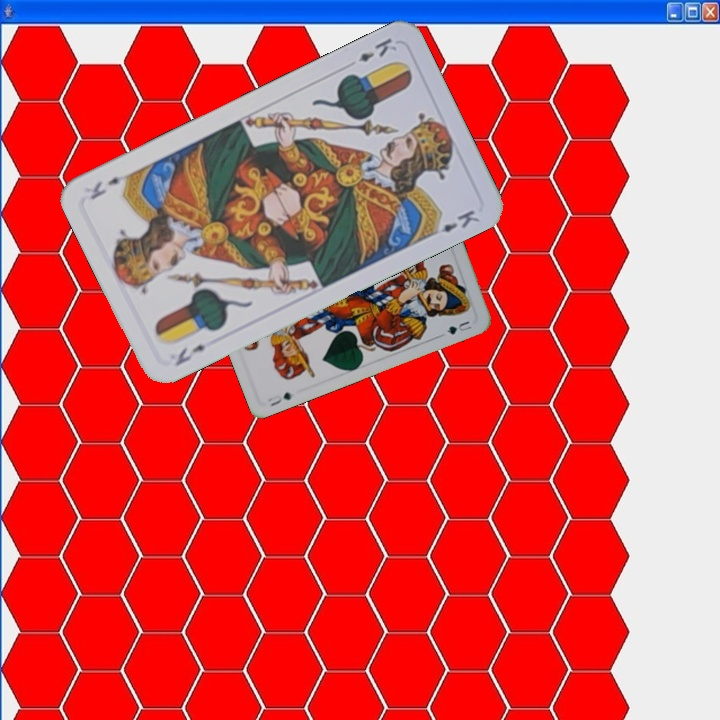EK: (354, 34, 400, 65), (171, 340, 208, 369)
GU: (264, 388, 295, 409)
